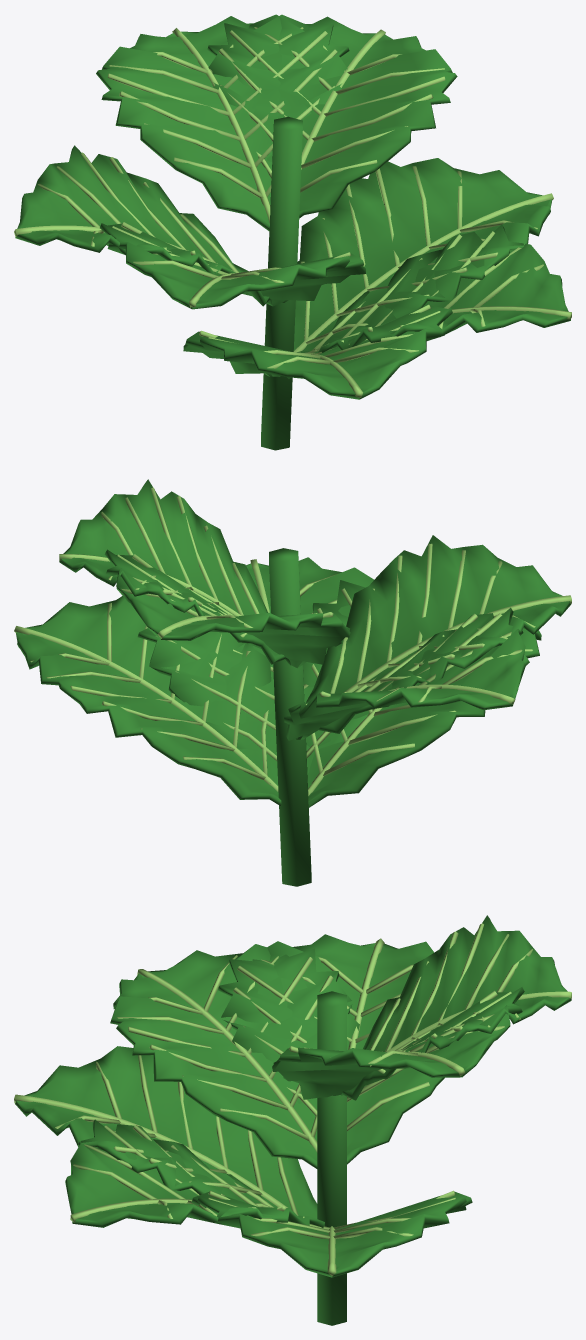
Rendered from mint-leaf-plant.glb.
3 views of the same model, one above another, from view 1: azimuth 30°, elevation 25°; view 2: azimuth 150°, elevation 25°; view 3: azimuth 270°, elevation 25° (orthographic). The views are drawn at different scales.
Visible parts, largest first — view 1: Serrated mint leaf, Serrated mint leaf.002, Serrated mint leaf.005, Serrated mint leaf.004, Serrated mint leaf.003, Serrated mint leaf.006, Mint stem, Serrated mint leaf.001, Leaf midrib, Leaf midrib.002, Leaf midrib.005, Leaf midrib.003 (+1 smaller); view 2: Serrated mint leaf, Serrated mint leaf.001, Serrated mint leaf.005, Serrated mint leaf.004, Serrated mint leaf.003, Serrated mint leaf.006, Serrated mint leaf.002, Mint stem, Leaf midrib, Leaf midrib.001, Leaf midrib.006, Leaf midrib.005 (+1 smaller); view 3: Serrated mint leaf.001, Serrated mint leaf.006, Serrated mint leaf.004, Serrated mint leaf.002, Serrated mint leaf.003, Serrated mint leaf.005, Serrated mint leaf, Mint stem, Leaf midrib.001, Leaf midrib.006, Leaf midrib.004, Leaf midrib.003 (+1 smaller).
Part boxes in pixels (x1,y1,x2,y2): Serrated mint leaf: (293,158,551,351); Serrated mint leaf.002: (96,14,349,231); Serrated mint leaf.005: (207,14,457,218); Serrated mint leaf.004: (15,145,271,306); Serrated mint leaf.003: (287,224,570,378); Serrated mint leaf.006: (183,305,452,399); Mint stem: (261,116,302,450); Serrated mint leaf.001: (100,223,365,309); Leaf midrib: (293,193,553,352); Leaf midrib.002: (172,28,270,222); Leaf midrib.005: (301,29,385,169); Leaf midrib.003: (452,306,571,319); Serrated mint leaf: (16,596,281,805); Serrated mint leaf.001: (306,535,571,735); Serrated mint leaf.005: (59,479,290,665); Serrated mint leaf.004: (284,607,525,740); Serrated mint leaf.003: (137,557,373,788); Serrated mint leaf.006: (303,580,541,807); Serrated mint leaf.002: (104,549,350,668); Mint stem: (269,548,311,886); Leaf midrib: (14,626,278,791); Leaf midrib.001: (343,595,571,692); Leaf midrib.006: (308,707,382,795); Leaf midrib.005: (59,554,241,616); Serrated mint leaf.001: (110,944,359,1168); Serrated mint leaf.006: (15,1046,317,1218); Serrated mint leaf.004: (218,934,444,1164); Serrated mint leaf.002: (341,915,571,1100); Serrated mint leaf.003: (65,1119,324,1227); Serrated mint leaf.005: (272,987,524,1099); Serrated mint leaf: (191,1191,472,1277); Mint stem: (317,991,346,1325); Leaf midrib.001: (137,969,317,1152); Leaf midrib.006: (14,1094,298,1215); Leaf midrib.004: (348,938,384,1049); Leaf midrib.003: (70,1198,192,1222).
Bounding box in the file's own units: 1.95 × 1.26 × 1.79.
